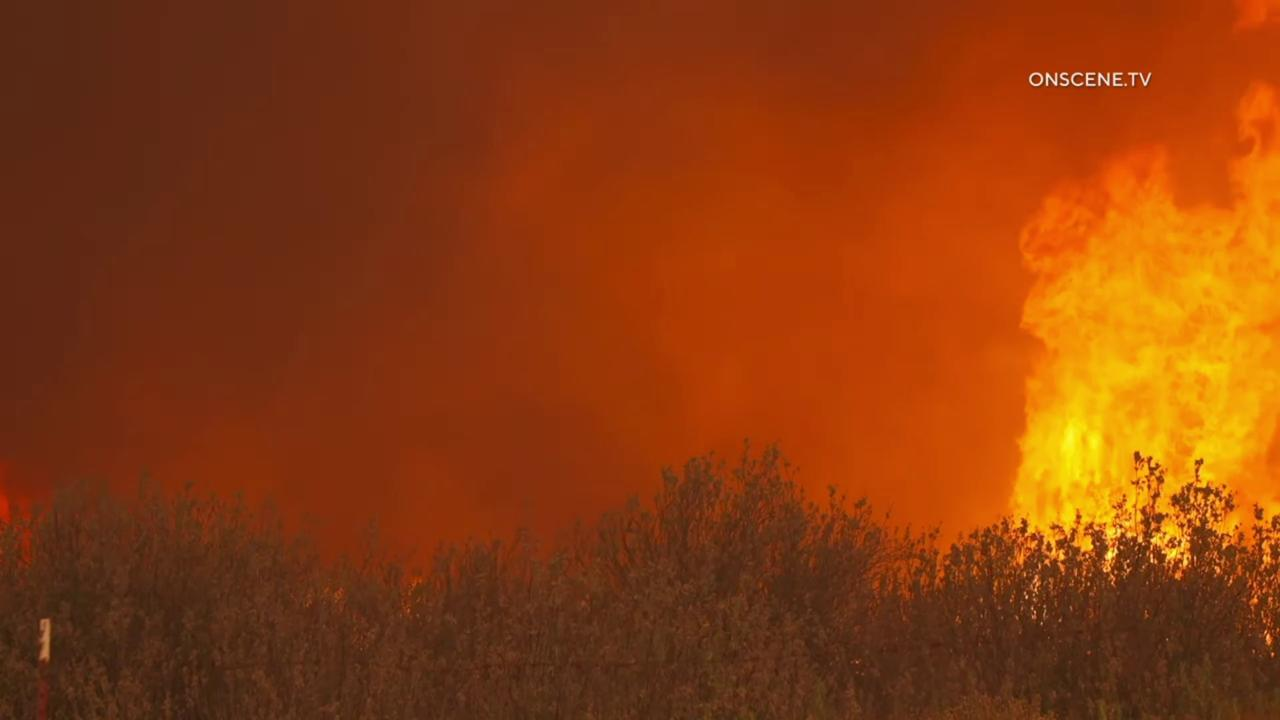fire: (990, 71, 1280, 659), (0, 460, 52, 575)
smoke: (0, 0, 1280, 667)
